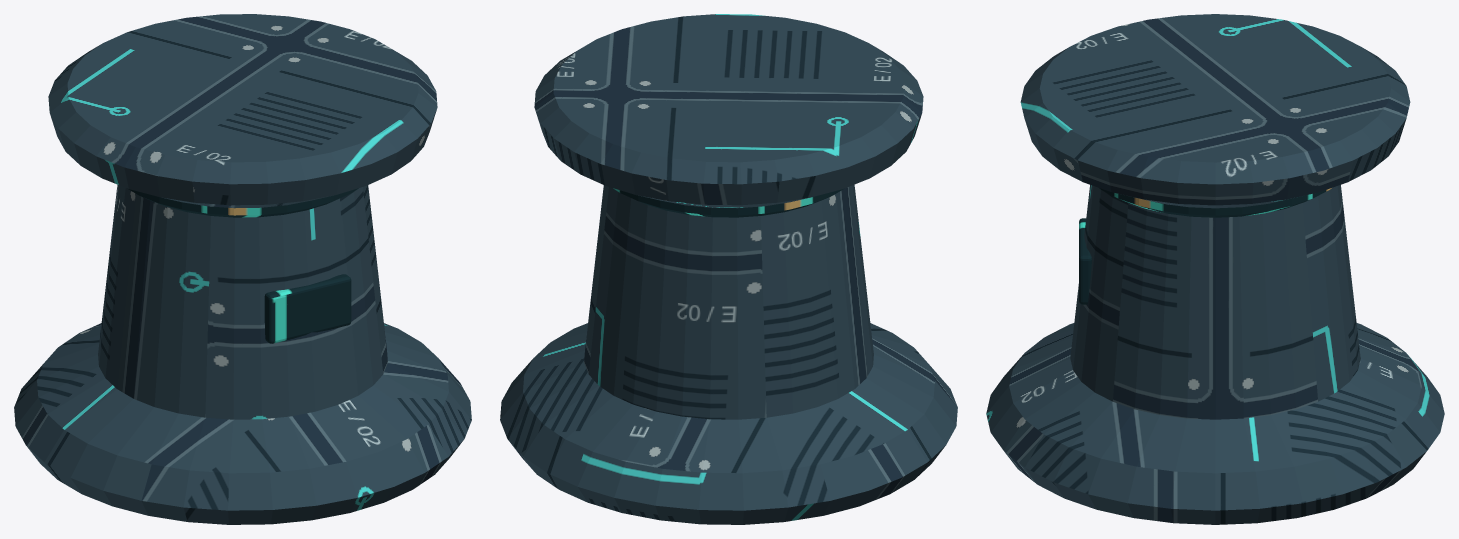
File: Pedestal.fbx
3 renders of one model, left to right at view 1: azimuth 30°, elevation 25°; view 2: azimuth 150°, elevation 25°; view 3: azimuth 270°, elevation 25°, orthographic.
Visible parts, largest first — view 1: Pedestal; view 2: Pedestal; view 3: Pedestal.
Part boxes in pixels (x1=…): Pedestal: x1=14, y1=14, x2=471, y2=524; Pedestal: x1=500, y1=14, x2=957, y2=524; Pedestal: x1=986, y1=14, x2=1444, y2=524.
Bounding box in the file's own units: 120 × 100 × 120.
